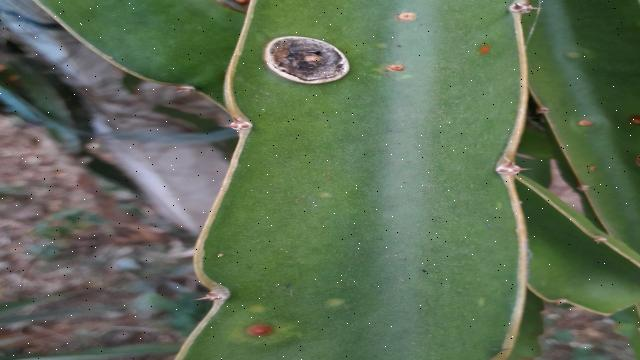stemcanker: (242, 320, 278, 342), (379, 58, 411, 77), (393, 7, 422, 27), (569, 113, 598, 133), (627, 109, 640, 132)
